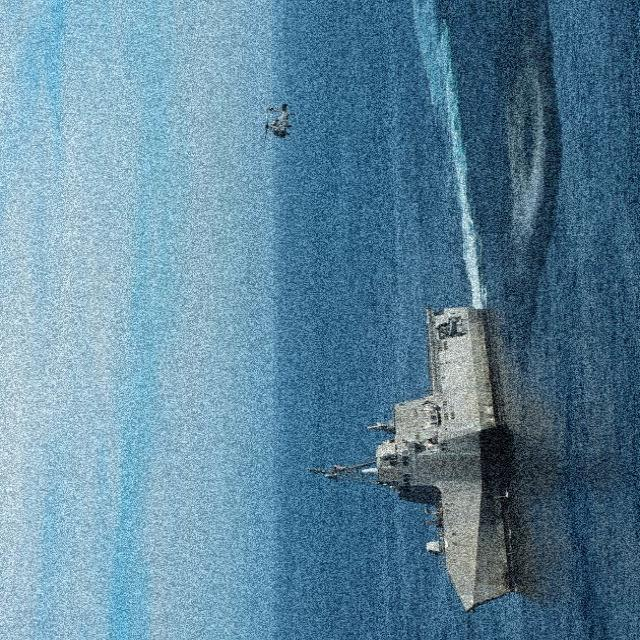ship2: (371, 306, 512, 611)
